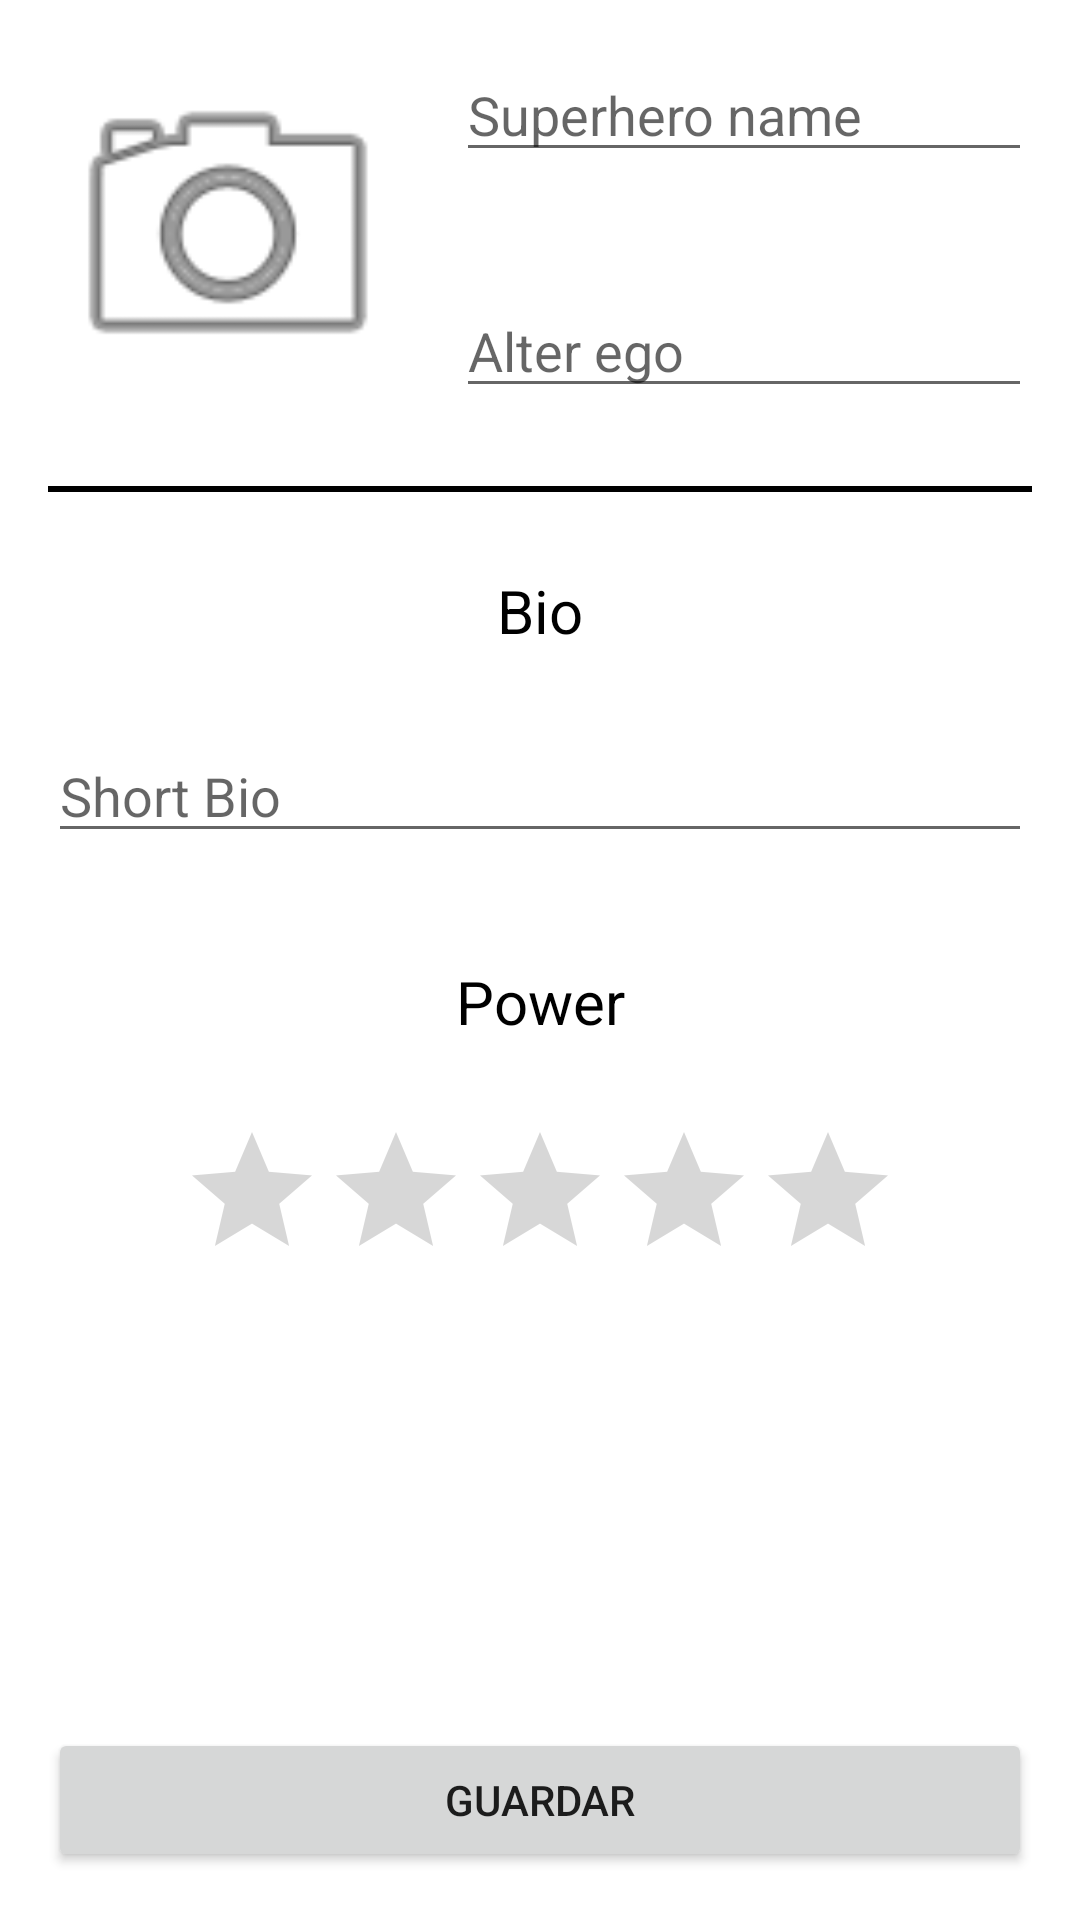

Named icons in this screenshot (1080px x 1920px) and their bounding boxes, [x1,y1,x2,y2]:
camera: [89,111,367,333]
